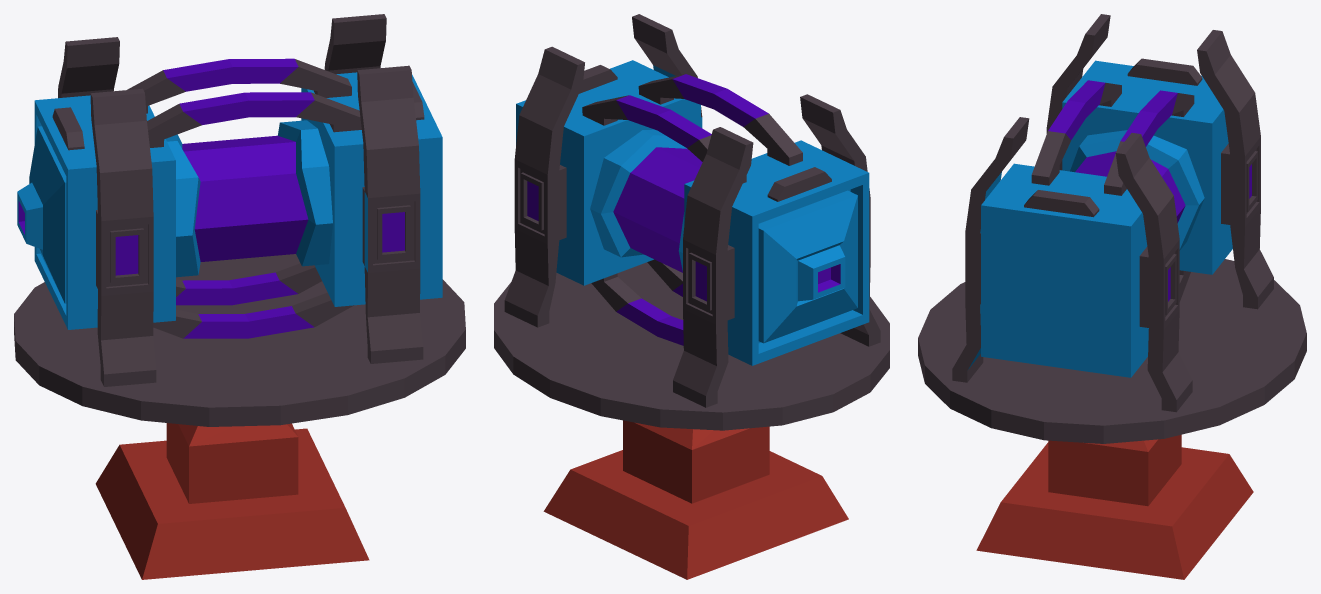
File: freezing tower.fbx
The picture shows the model from 3 angles, left to right: view 1: azimuth 30°, elevation 25°; view 2: azimuth 150°, elevation 25°; view 3: azimuth 270°, elevation 25°; orthographic projection. The views are drawn at different scales.
Parts seen in each view (by area): view 1: freeze; view 2: freeze; view 3: freeze.
Part boxes in pixels (bbox=[...]): freeze: bbox=[14, 14, 465, 579]; freeze: bbox=[494, 14, 889, 579]; freeze: bbox=[918, 14, 1306, 579].
Bounding box in the file's own units: 277 × 315 × 252.
